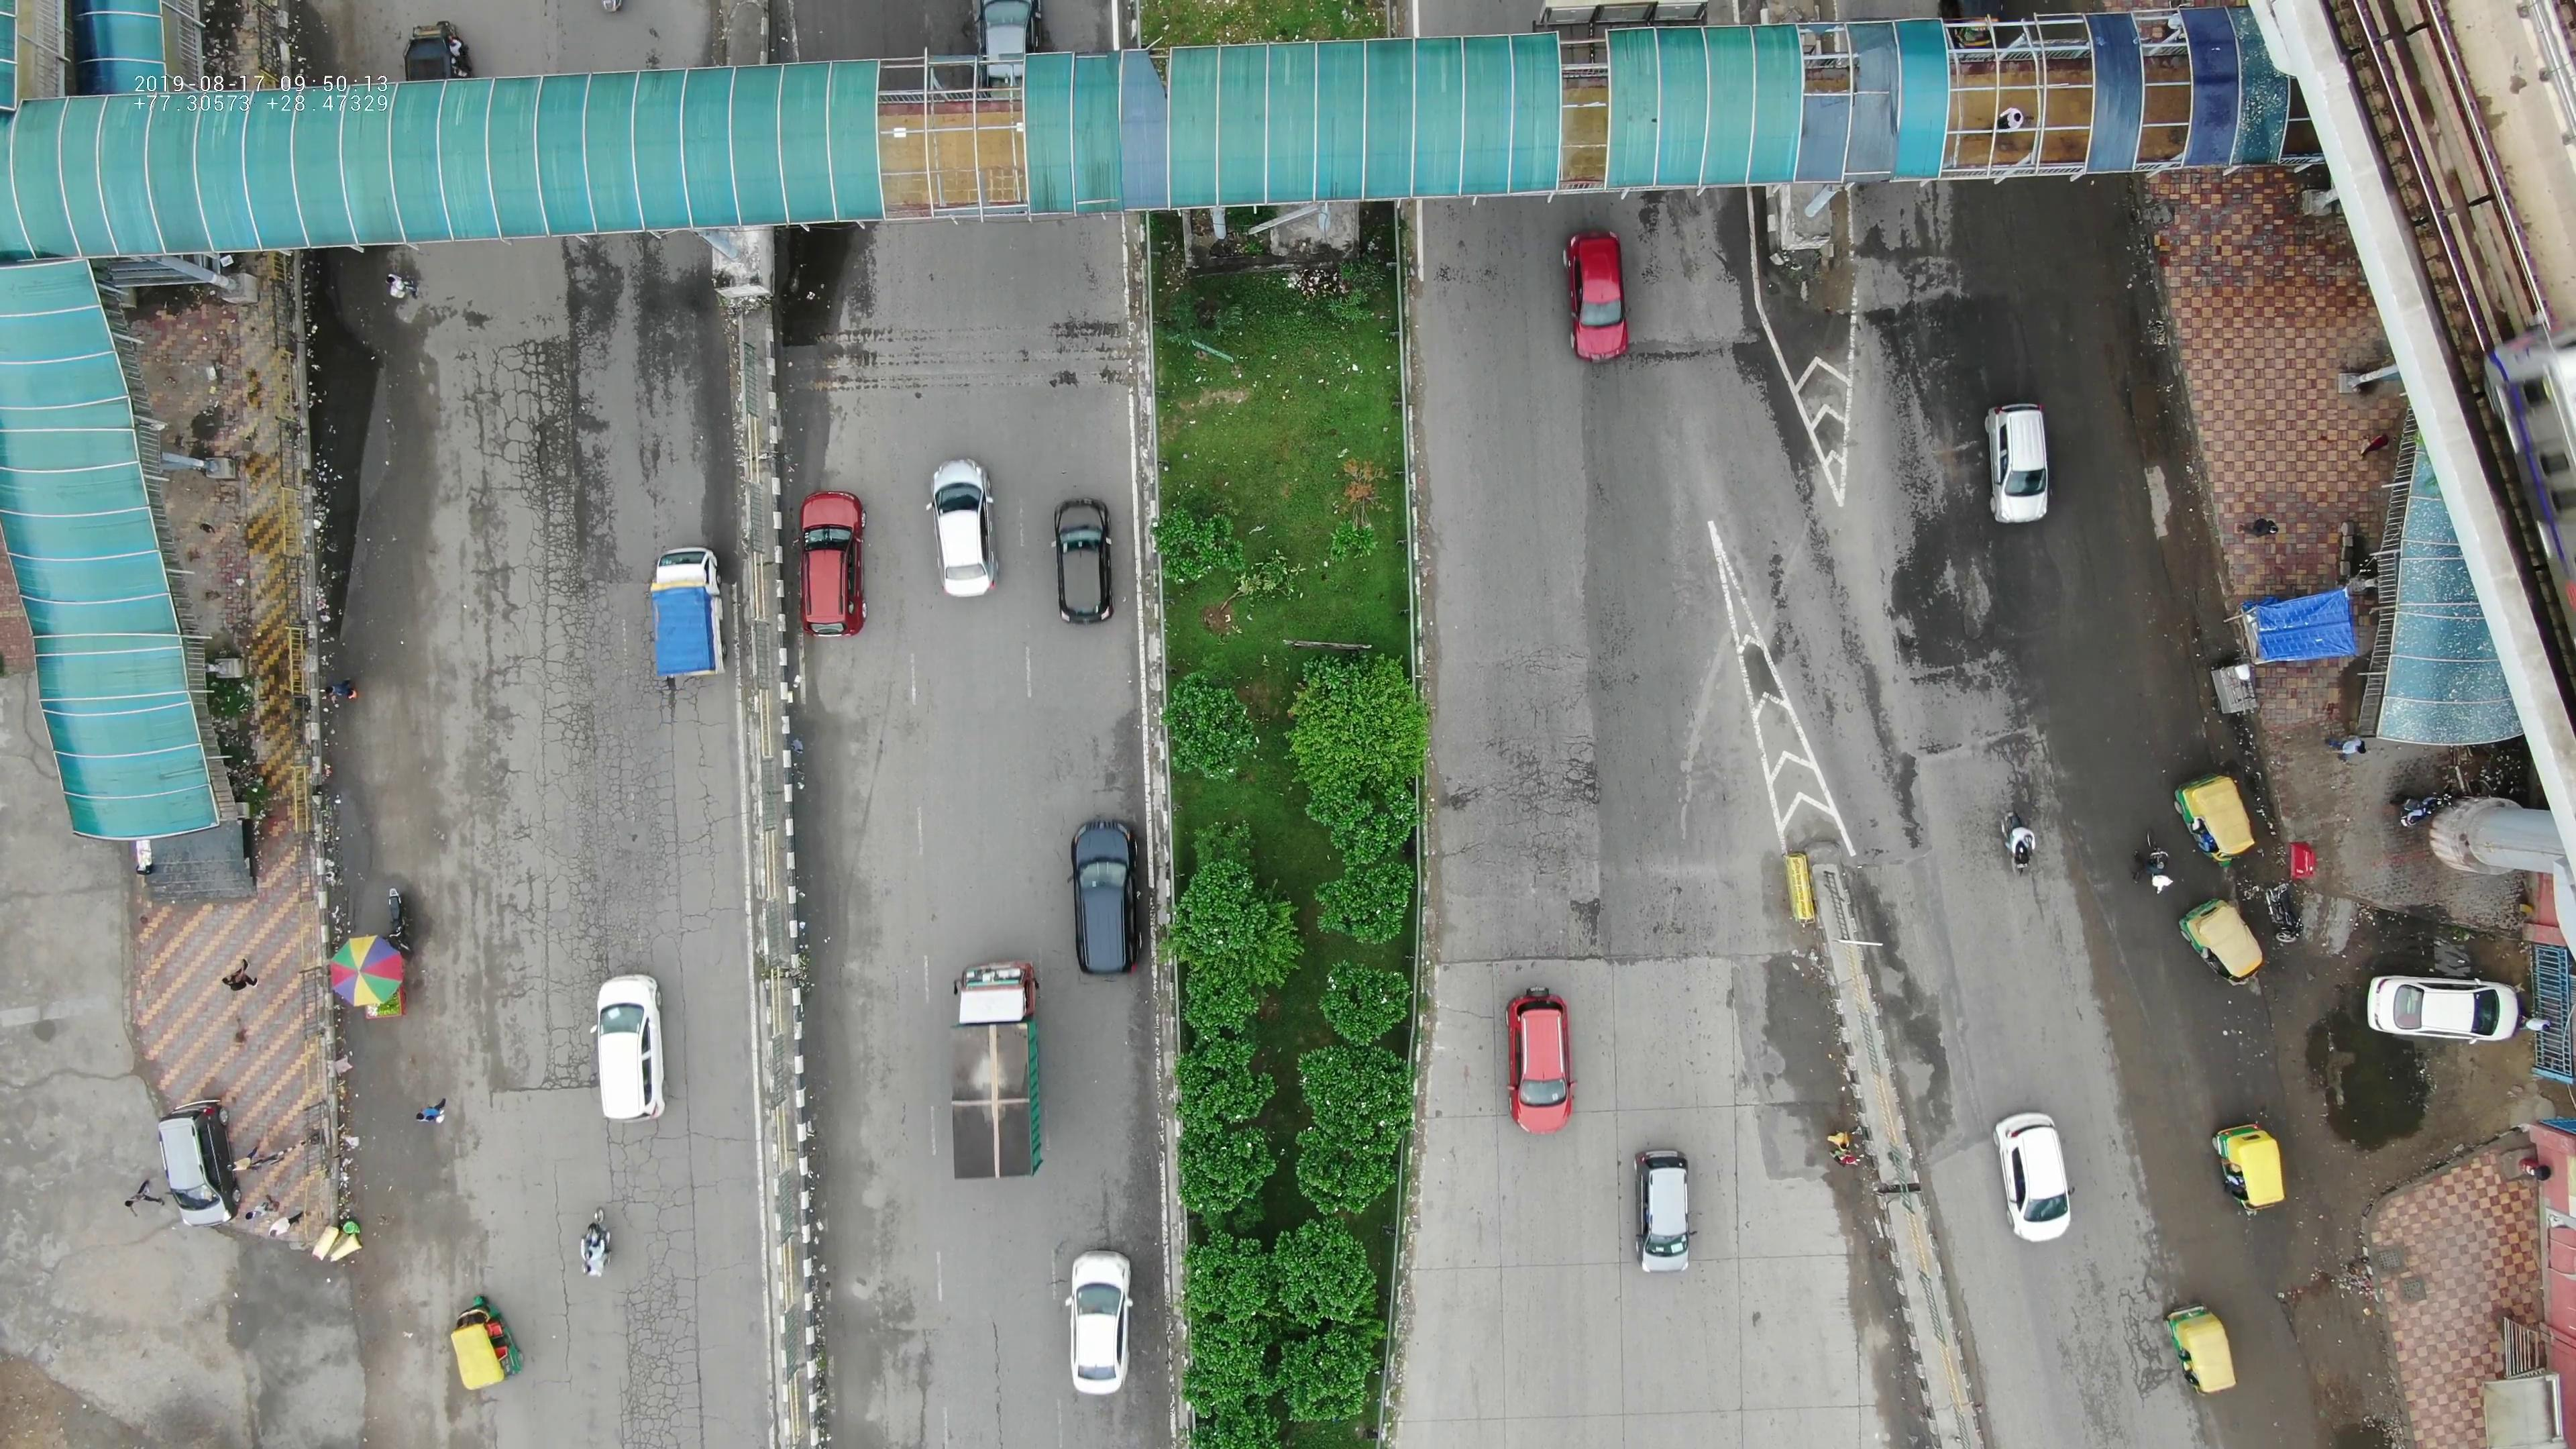Alligator_cracks: (428, 306, 617, 975), (1435, 644, 1628, 945), (598, 1290, 717, 1444), (632, 810, 734, 929)
